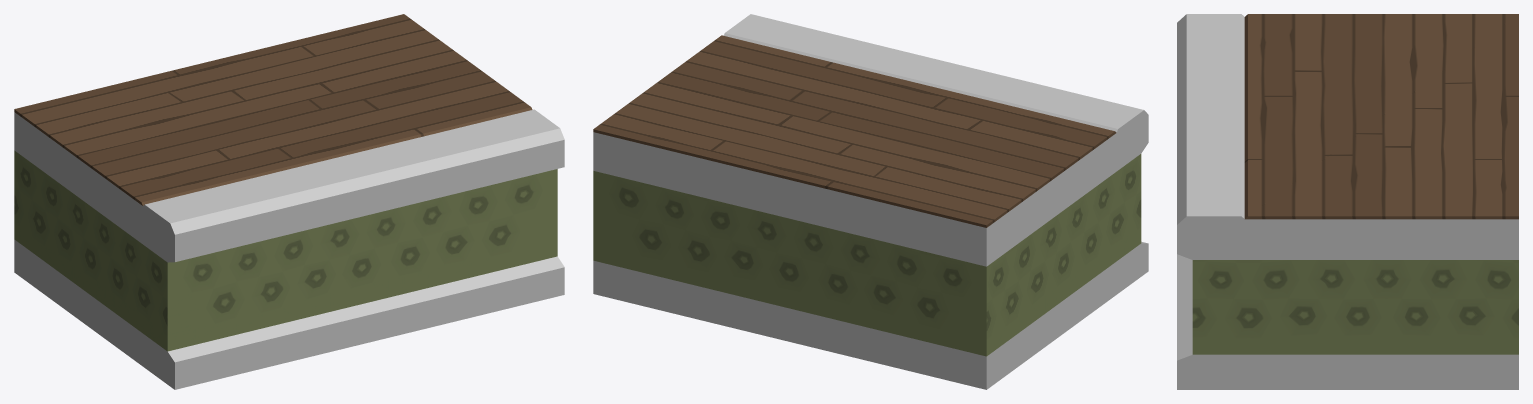
File: SM_Prop_Platform_01.fbx
The picture shows the model from 3 angles, left to right: view 1: azimuth 30°, elevation 25°; view 2: azimuth 150°, elevation 25°; view 3: azimuth 270°, elevation 25°; orthographic projection. The views are drawn at different scales.
Parts seen in each view (by area): view 1: SM_Prop_Platform_01; view 2: SM_Prop_Platform_01; view 3: SM_Prop_Platform_01.
Boxes of the visible parts, bbox=[...] form: SM_Prop_Platform_01: bbox=[14, 14, 564, 389]; SM_Prop_Platform_01: bbox=[593, 14, 1148, 389]; SM_Prop_Platform_01: bbox=[1177, 14, 1518, 389].
Size of the model in its own units: 250 by 100 by 178.
